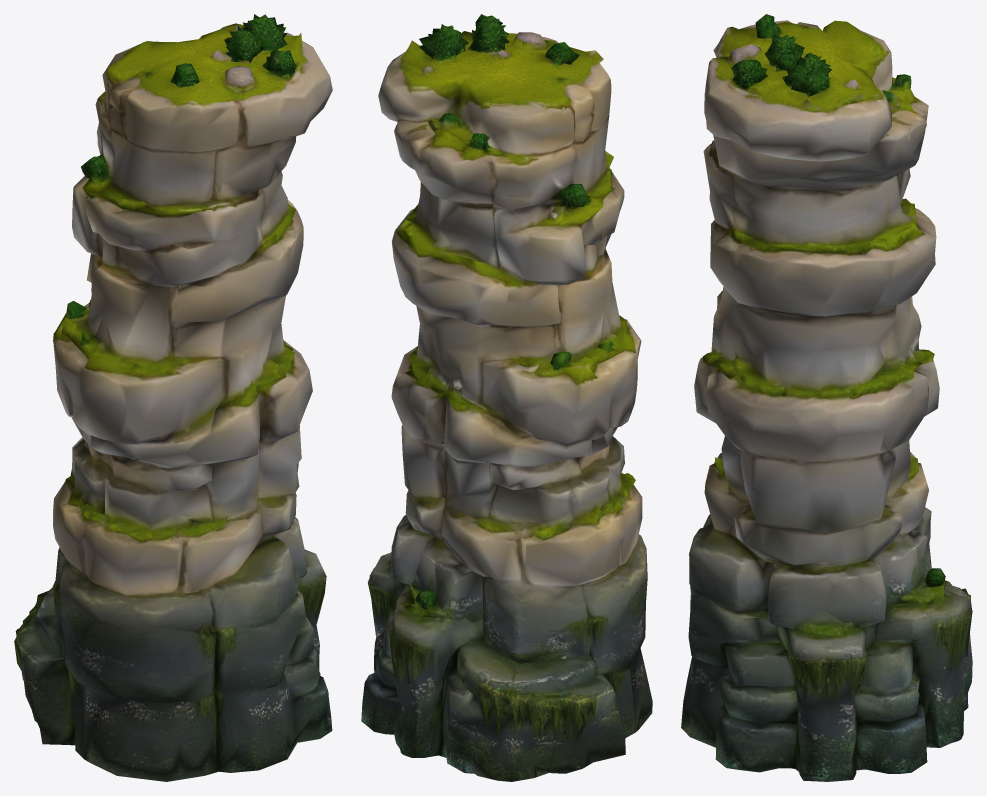
Rendered from env-seastack.glb.
3 views of the same model, side by side, from view 1: azimuth 30°, elevation 25°; view 2: azimuth 150°, elevation 25°; view 3: azimuth 270°, elevation 25° (orthographic). The views are drawn at different scales.
Parts seen in each view (by area): view 1: tripo_node_80bc2c58-282f-4a4d-9468-8a8d5a3517d5; view 2: tripo_node_80bc2c58-282f-4a4d-9468-8a8d5a3517d5; view 3: tripo_node_80bc2c58-282f-4a4d-9468-8a8d5a3517d5.
Boxes of the visible parts, x1=… form: tripo_node_80bc2c58-282f-4a4d-9468-8a8d5a3517d5: x1=14, y1=14, x2=332, y2=781; tripo_node_80bc2c58-282f-4a4d-9468-8a8d5a3517d5: x1=361, y1=14, x2=652, y2=781; tripo_node_80bc2c58-282f-4a4d-9468-8a8d5a3517d5: x1=681, y1=14, x2=972, y2=781.
Bounding box in the file's own units: 0.4061 × 0.9993 × 0.3755.
Materials: 1 (1 with a texture image).
